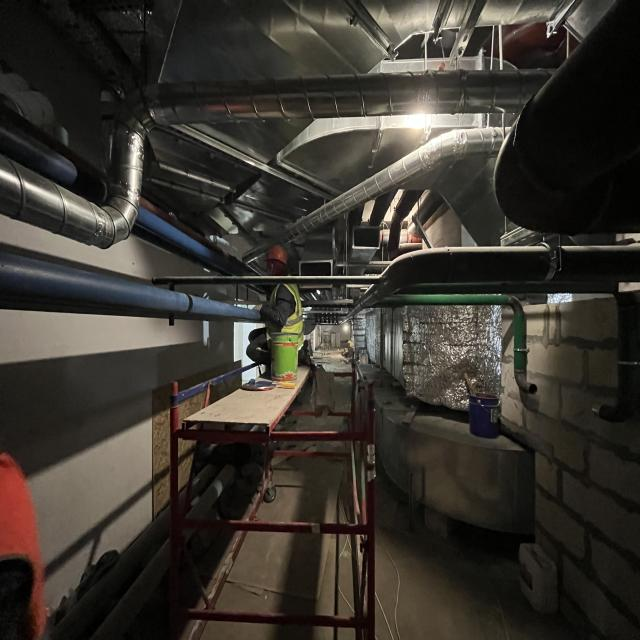Helmet: (268, 247, 289, 266)
Jacket: (271, 284, 303, 332)
